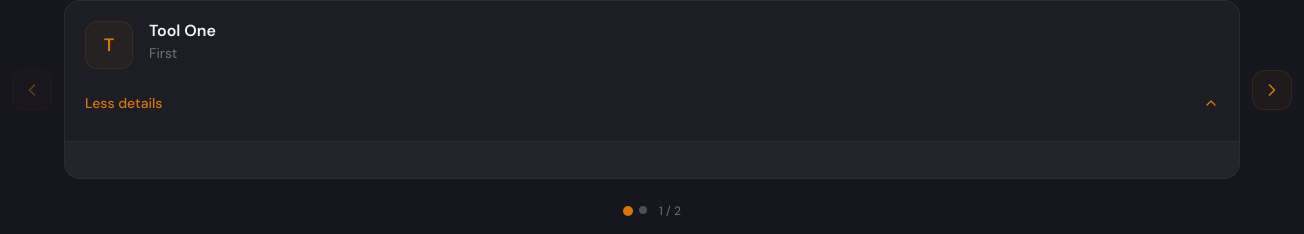
ToolCarousel › navigates to next tool when next button clicked
The width and height of the screenshot is (1304, 234).
Expected: the heading "Tool One" is shown, [149,20,216,41]
What coordinates should you click on to do the following:
click the button named "Next tool"
I would click on:
 (1272, 90)
Its box is [1252,70,1292,110].
Wait 420 ms
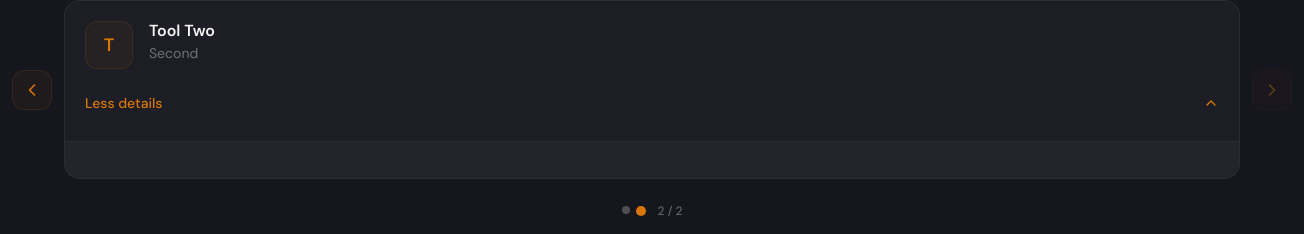
Expected: the heading "Tool Two" is shown, [149,20,215,41]
